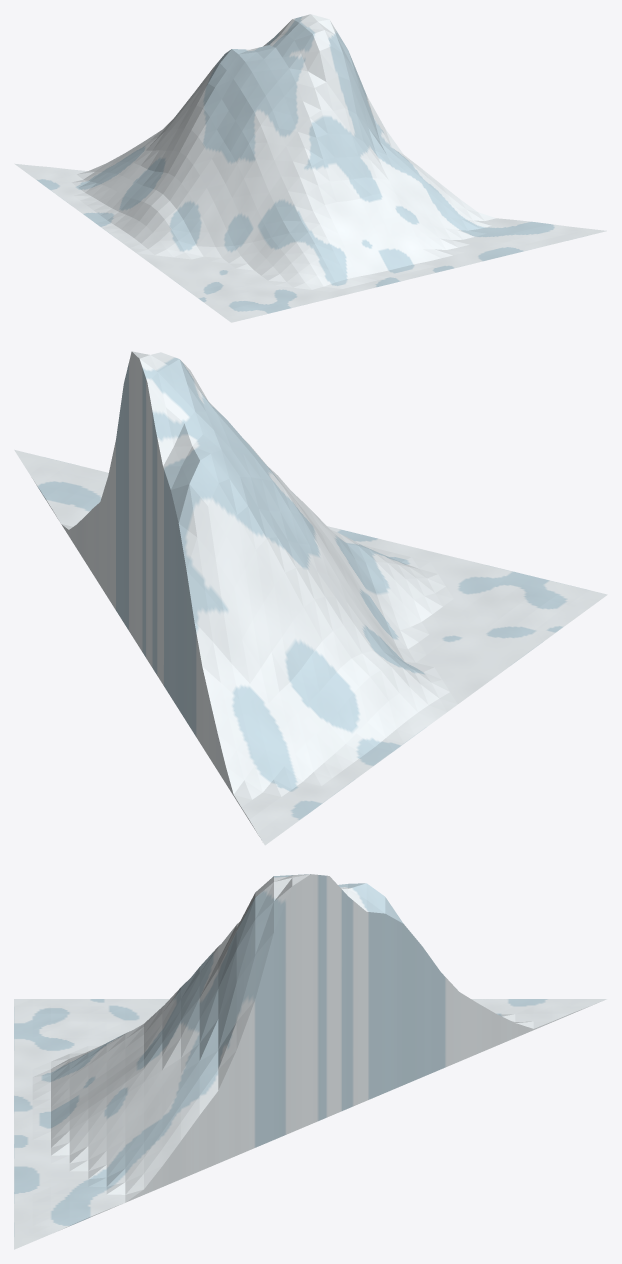
The model's file is Snow_Mountains_11_NW.obj.
3 renders of one model, top to bottom at view 1: azimuth 30°, elevation 25°; view 2: azimuth 150°, elevation 25°; view 3: azimuth 270°, elevation 25°, orthographic. The views are drawn at different scales.
Size of the model in its own units: 10 by 4.65 by 10.
Materials: 1 (1 with a texture image).
